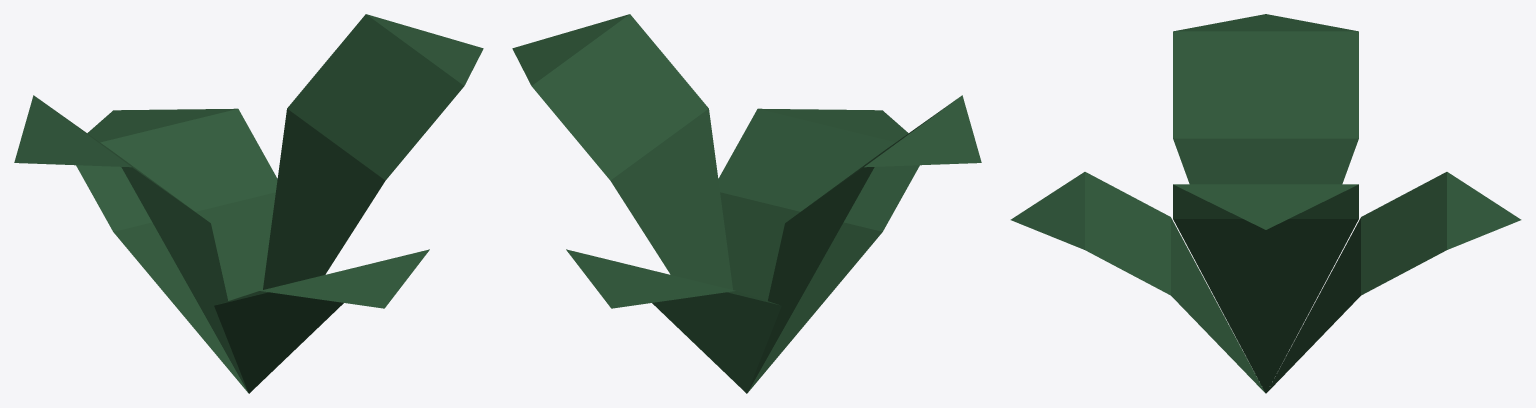
File: plant_bush.glb
3 views of the same model, side by side, from view 1: azimuth 30°, elevation 25°; view 2: azimuth 150°, elevation 25°; view 3: azimuth 270°, elevation 25° (orthographic). The views are drawn at different scales.
Visible parts, largest first — view 1: plant_bush; view 2: plant_bush; view 3: plant_bush.
Part boxes in pixels (x1,y1,x2,y2): plant_bush: [14, 14, 483, 393]; plant_bush: [512, 14, 981, 393]; plant_bush: [1010, 14, 1521, 393].
Size of the model in its own units: 0.396 by 0.2444 by 0.396.
